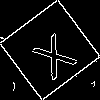X: (25, 24, 78, 81)
